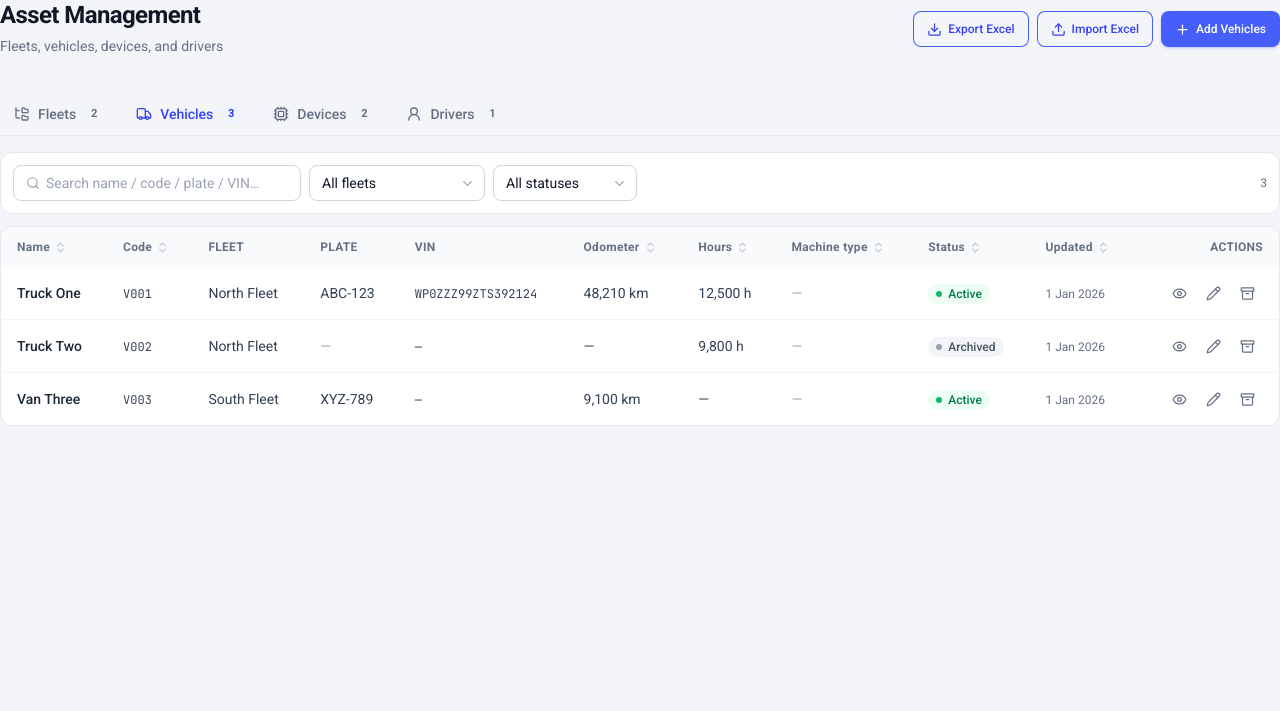
Test case: AssetManagementPage › keeps Assign disabled until a device is picked from the placeholder
Click the text "Truck One" at x=49, y=293, box [17,285,81,301]
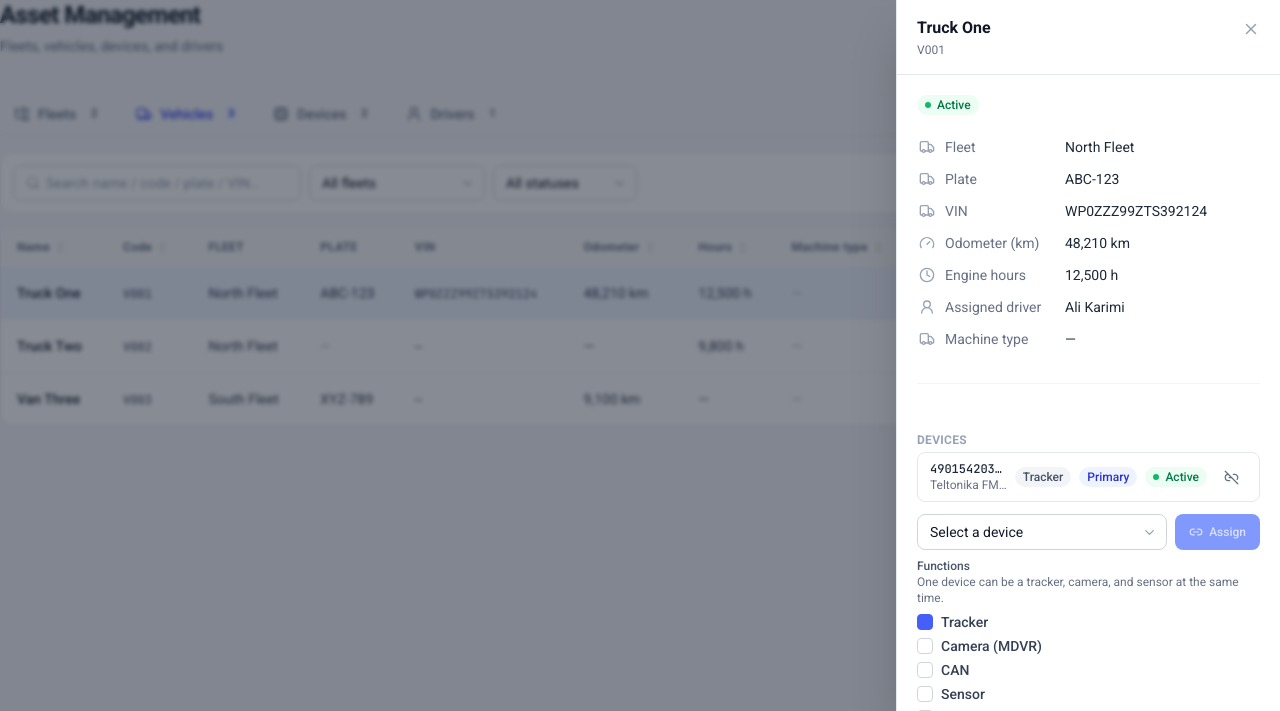
Now the dropdown named "IMEI" shows "Select a device"
Now the button "Assign" is disabled, box [1175,514,1260,550]
Select "490154203237526 · HB-T808" in the dropdown named "IMEI" at x=1042, y=532, box [917,514,1167,550]
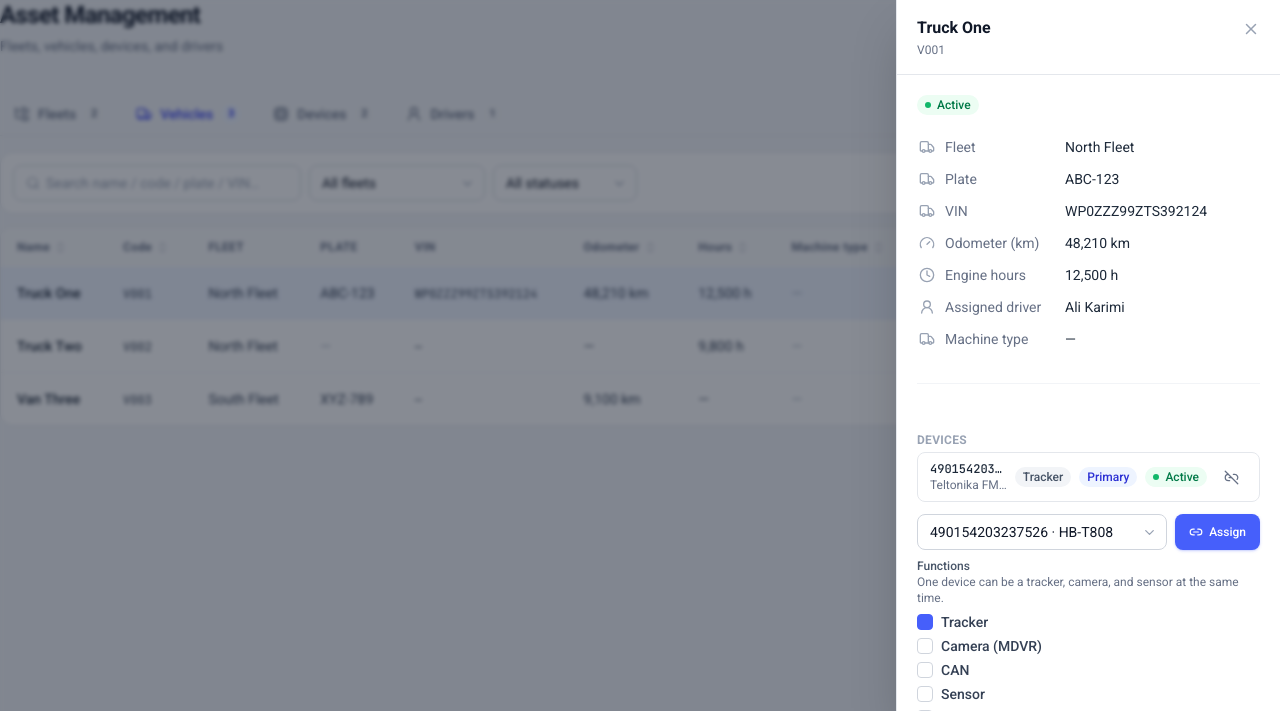
Now the checkbox labelled "Tracker" is checked, box [917,614,933,630]
Now the button "Assign" is enabled, box [1175,514,1260,550]
